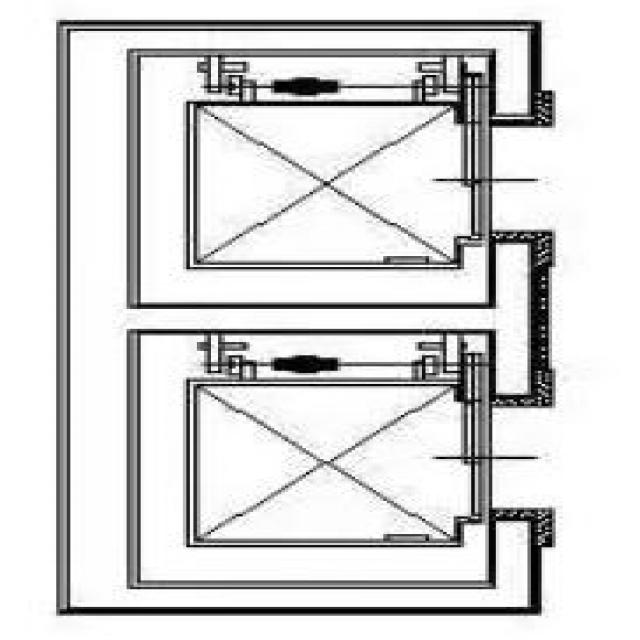lift: (52, 18, 548, 614)
